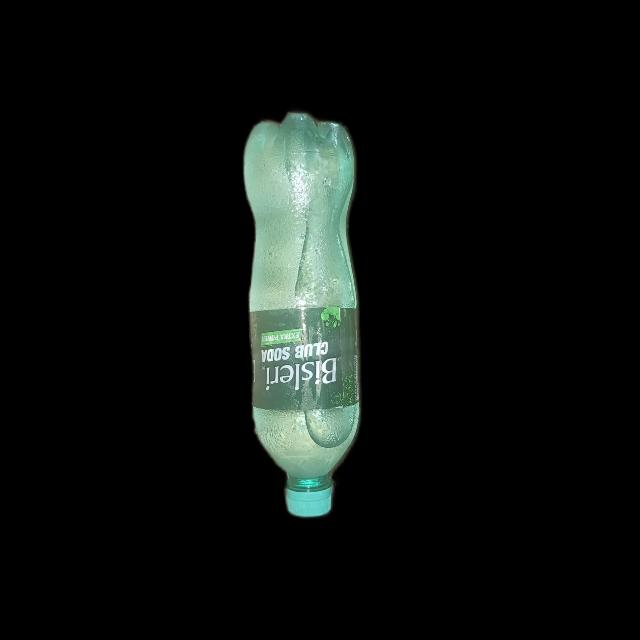Bisleri Club Soda - 750 ml: (227, 110, 386, 518)
